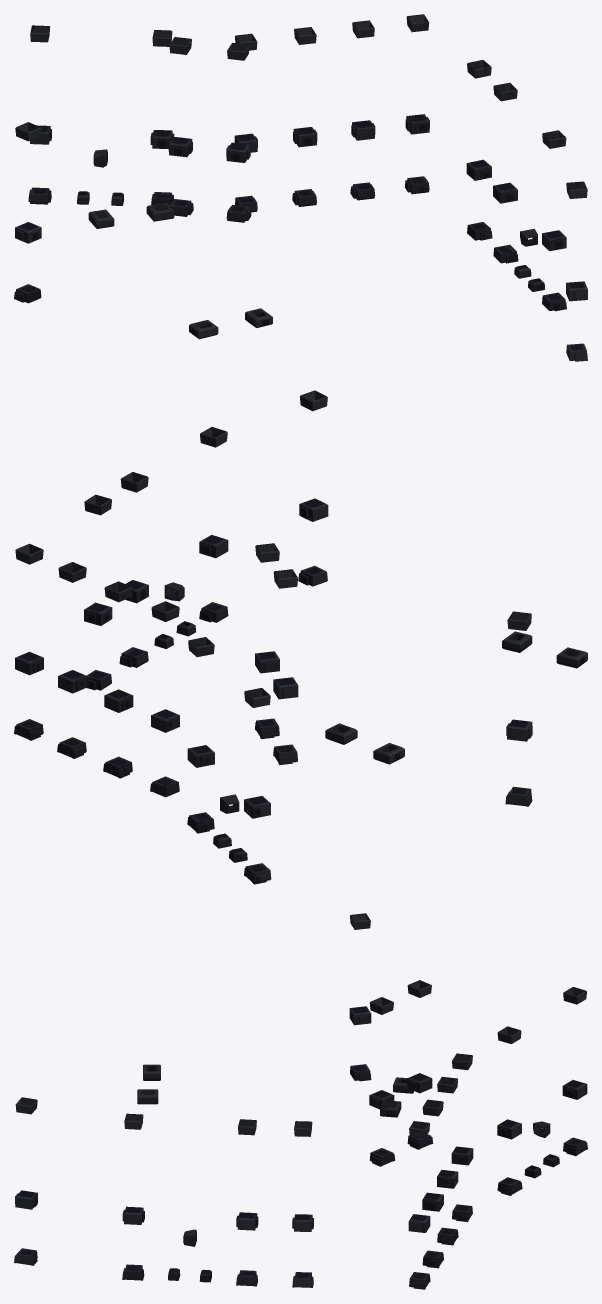
File: Wall_03.FBX
3 renders of one model, top to bottom at view 1: azimuth 30°, elevation 25°; view 2: azimuth 150°, elevation 25°; view 3: azimuth 270°, elevation 25°, orthographic. The views are drawn at different scales.
Parts seen in each view (by area): view 1: Wall_03; view 2: Wall_03; view 3: Wall_03.
Boxes of the visible parts, <box> form: Wall_03: <box>14,14,587,361</box>; Wall_03: <box>14,390,587,884</box>; Wall_03: <box>14,913,587,1289</box>.
Bounding box in the file's own units: 35.57 × 15.78 × 42.75.
